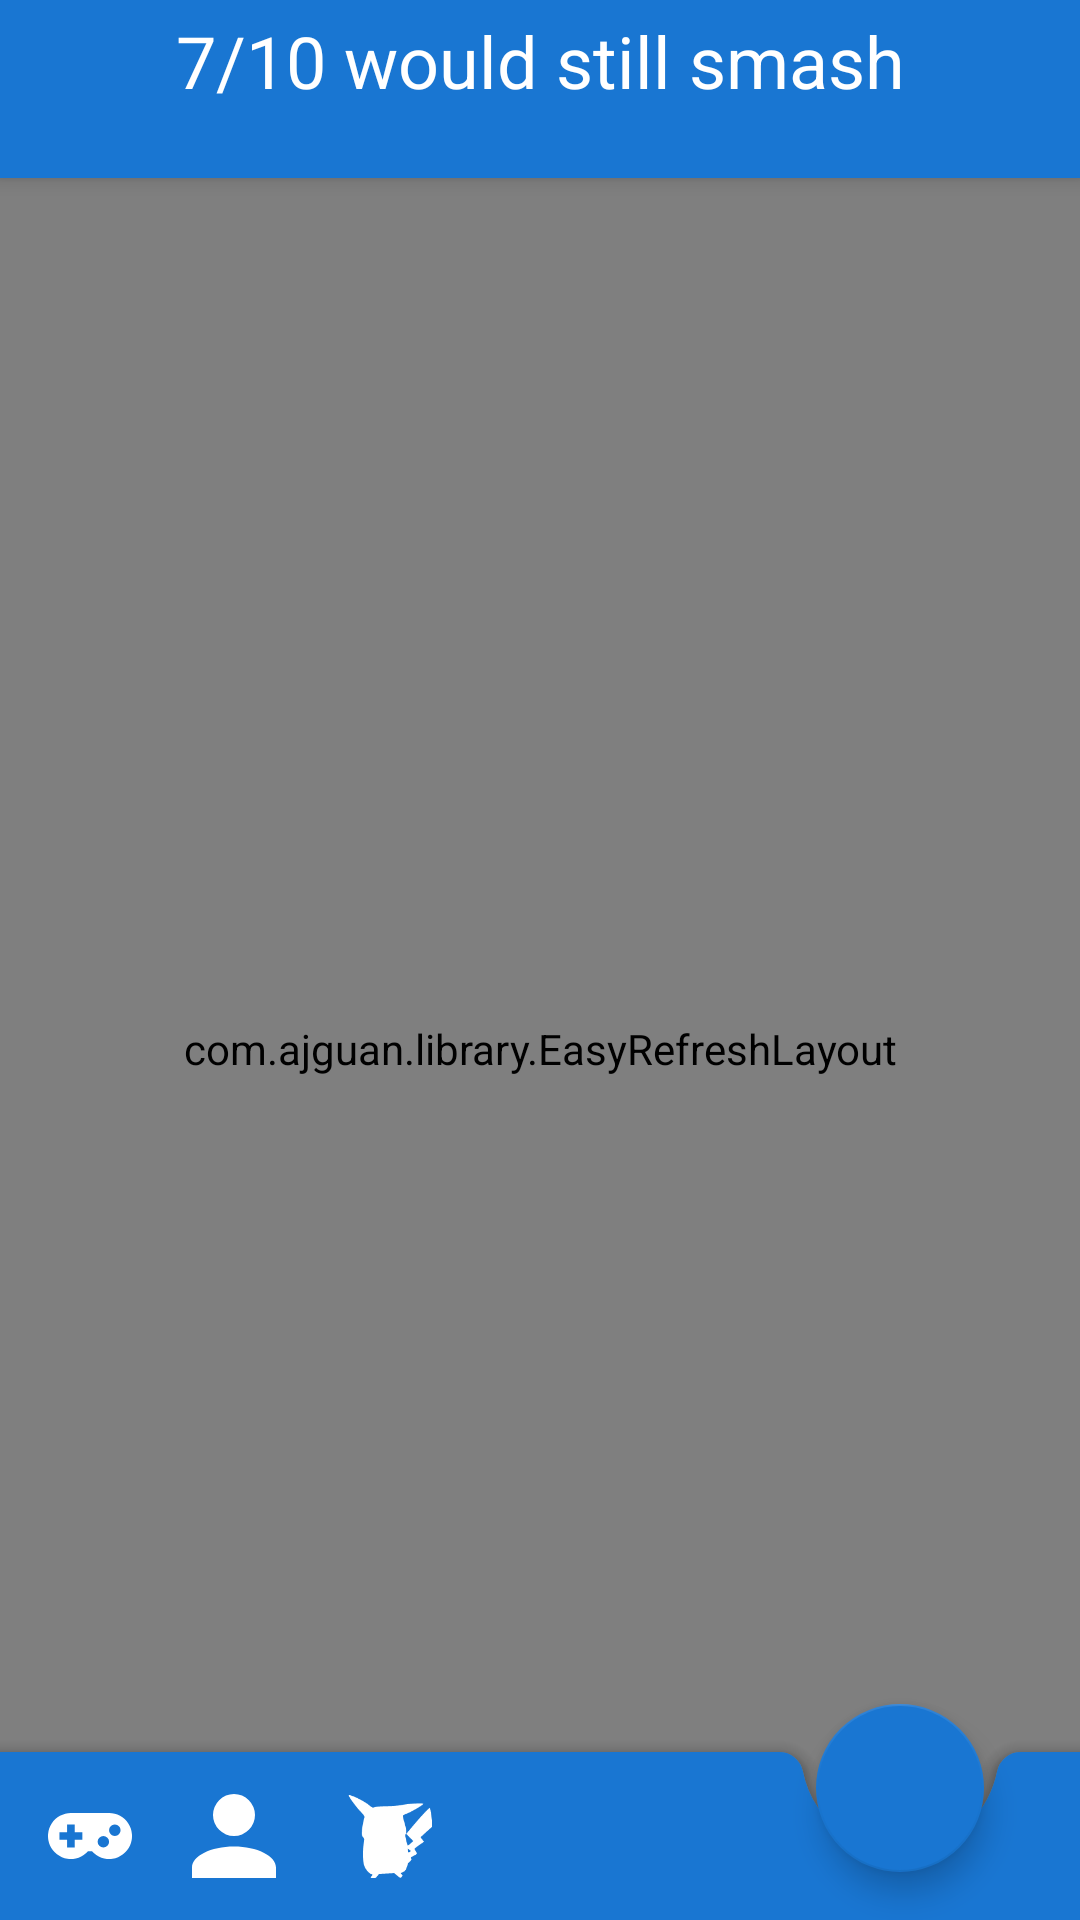

Icon click points for this 1080w x 1920h phone screenshot, format (x=x, y=y):
games: (x=90, y=1836)
players: (x=234, y=1836)
